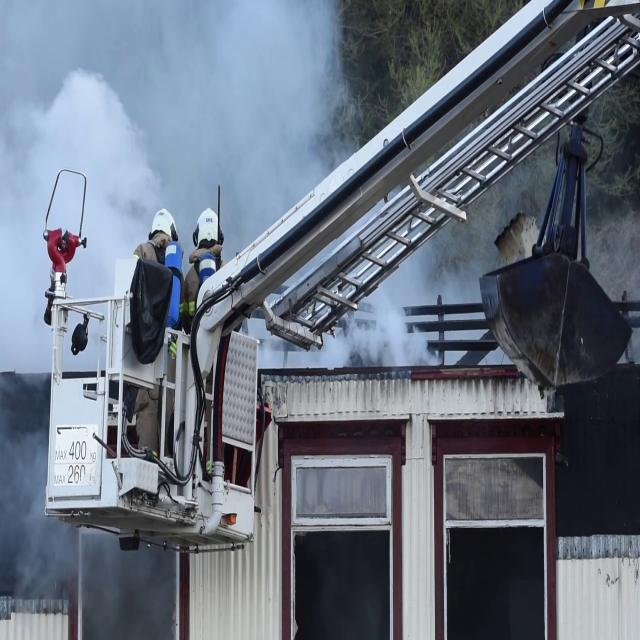Smoke: (1, 5, 362, 327), (314, 280, 439, 378), (0, 434, 68, 598)
